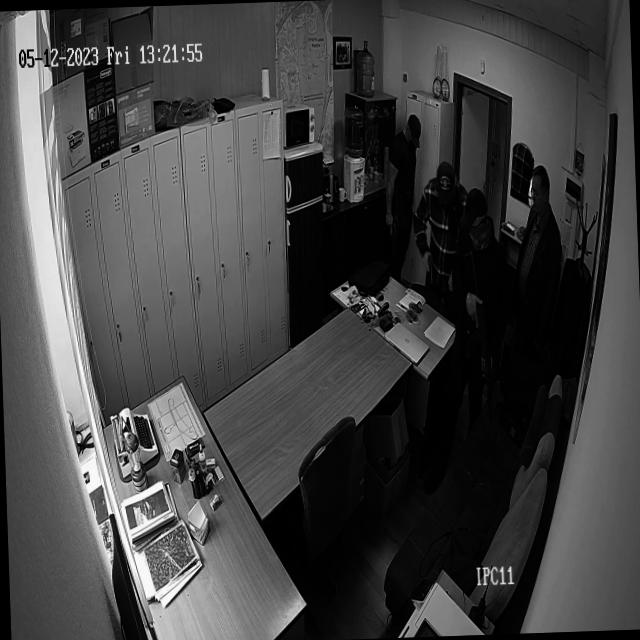gun: (466, 265, 502, 472), (424, 231, 436, 292), (386, 202, 398, 263)
person: (516, 154, 568, 282)
person with a gun: (454, 178, 511, 468), (416, 152, 466, 325), (382, 110, 428, 282)
